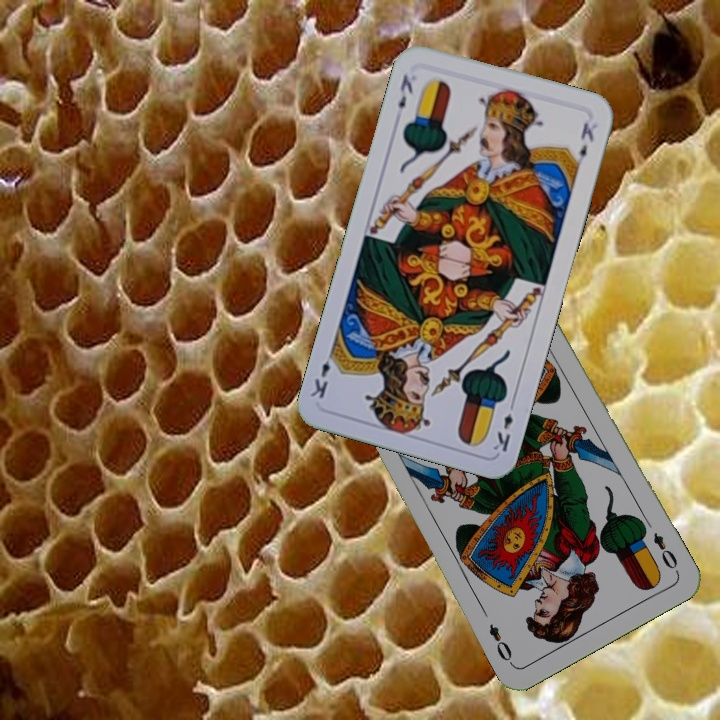EK: (489, 396, 518, 455), (394, 70, 416, 111)
EO: (649, 528, 680, 572)
